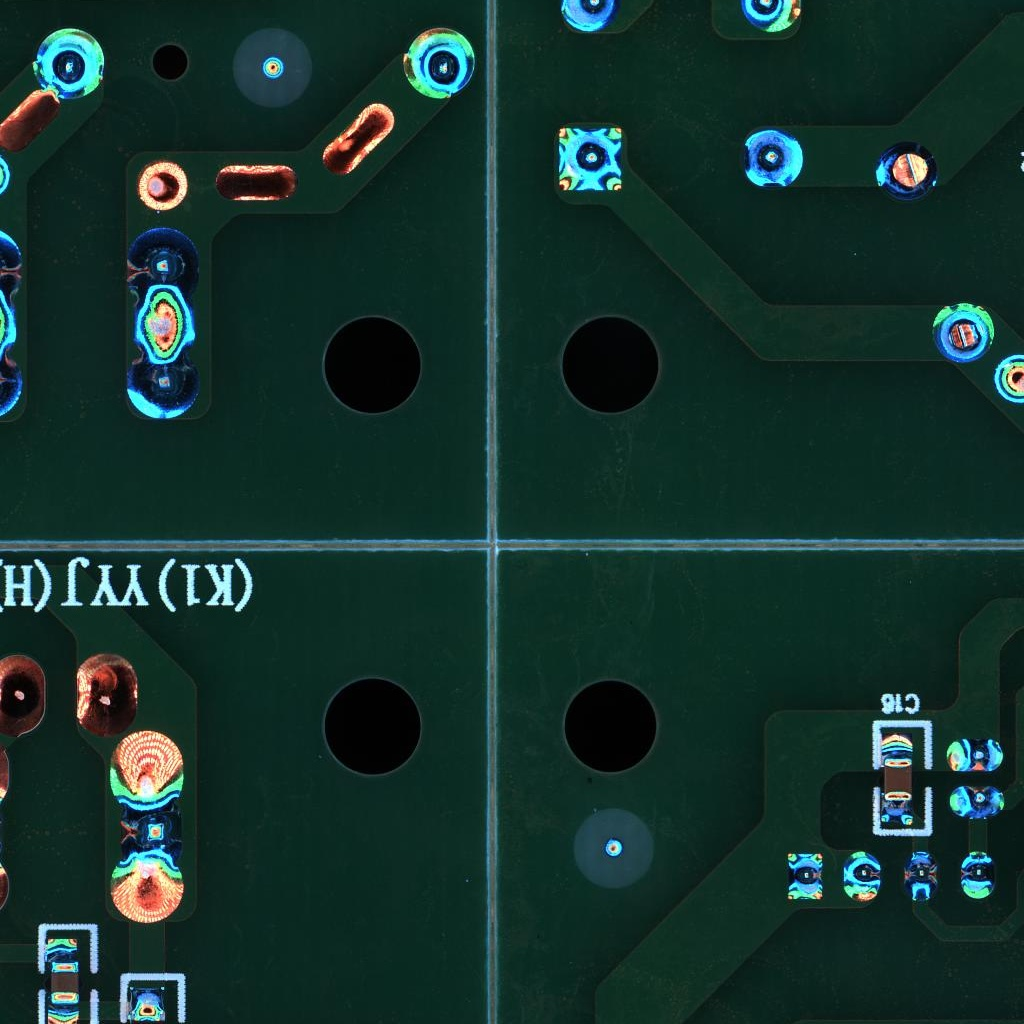spot: (125, 225, 202, 303), (401, 25, 479, 100), (30, 28, 106, 101), (110, 800, 187, 870), (125, 352, 202, 420), (555, 124, 624, 193), (873, 139, 940, 205), (932, 302, 996, 365), (741, 128, 804, 190), (841, 847, 883, 904), (735, 1, 802, 36), (946, 736, 1007, 774), (902, 848, 942, 904), (946, 784, 1007, 820), (785, 851, 826, 904), (958, 848, 997, 901), (555, 1, 616, 34), (994, 354, 1024, 404)
